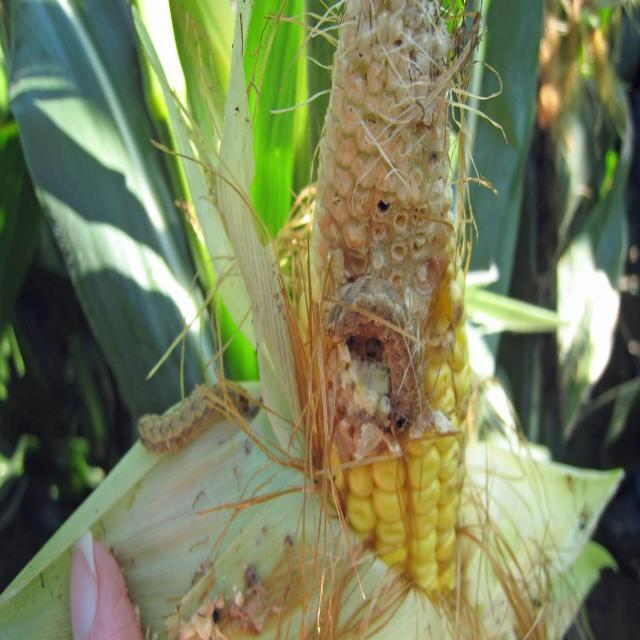worm: (328, 268, 422, 431), (127, 368, 260, 462)
